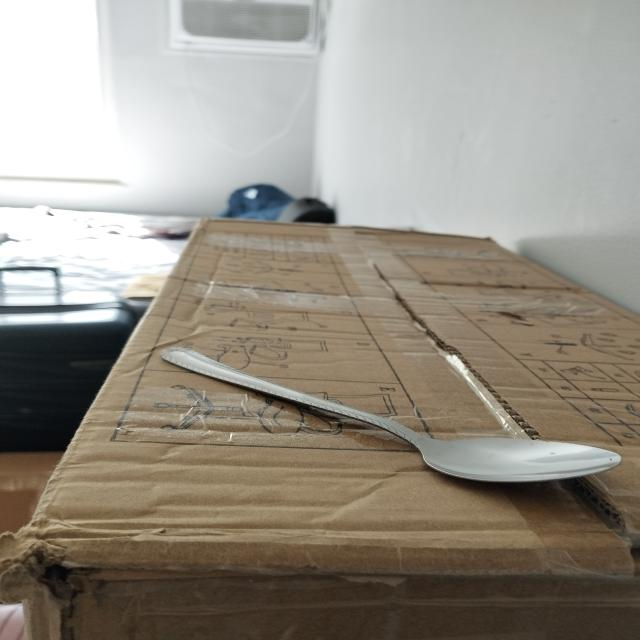Spoon: (151, 333, 632, 489)
